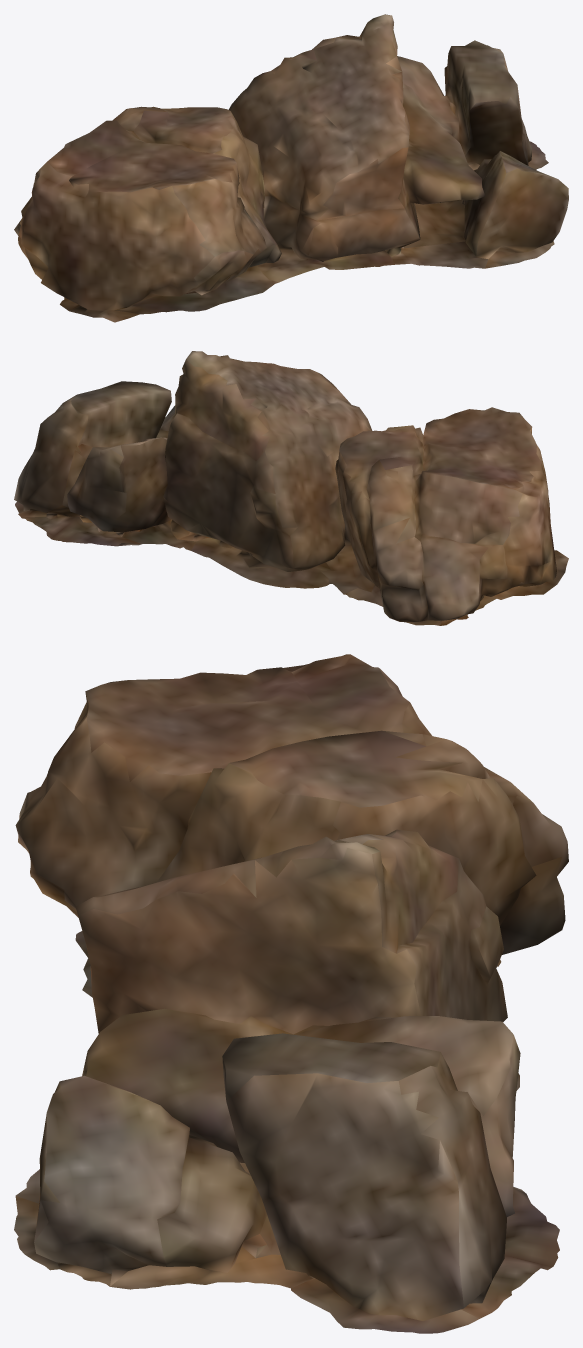
The model's file is ph_boulder_1.glb.
3 views of the same model, one above another, from view 1: azimuth 30°, elevation 25°; view 2: azimuth 150°, elevation 25°; view 3: azimuth 270°, elevation 25° (orthographic). The views are drawn at different scales.
Visible parts, largest first — view 1: ph_boulder_1_lod1; view 2: ph_boulder_1_lod1; view 3: ph_boulder_1_lod1.
Part boxes in pixels (<box>): ph_boulder_1_lod1: <box>14,14,568,322</box>; ph_boulder_1_lod1: <box>14,351,568,625</box>; ph_boulder_1_lod1: <box>14,654,568,1333</box>.
Bounding box in the file's own units: 2.53 × 0.8745 × 1.23.
Materials: 1 (1 with a texture image).
